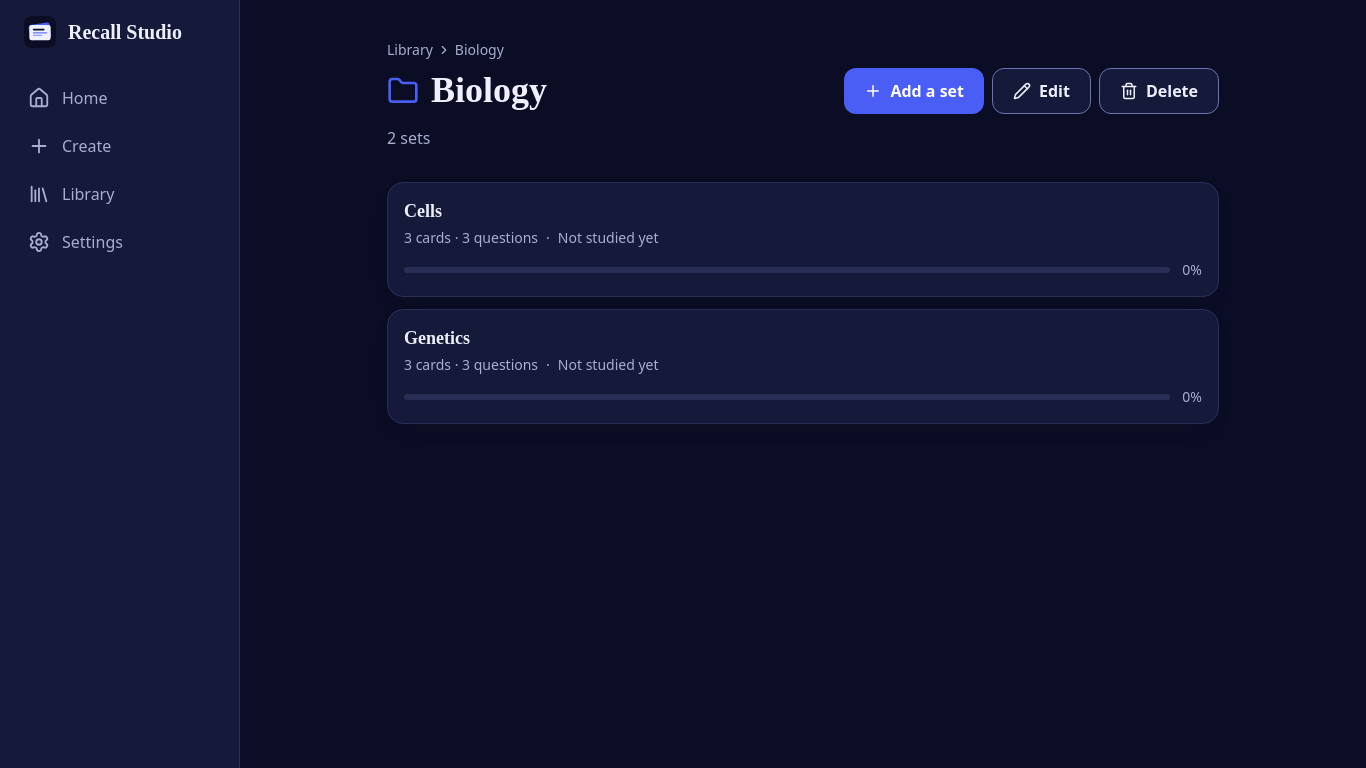
Test case: Folders › deleting a folder keeps its sets by default (moved to Unsorted)
Click the button "Delete". click: (1159, 91)
box: [1099, 68, 1219, 114]
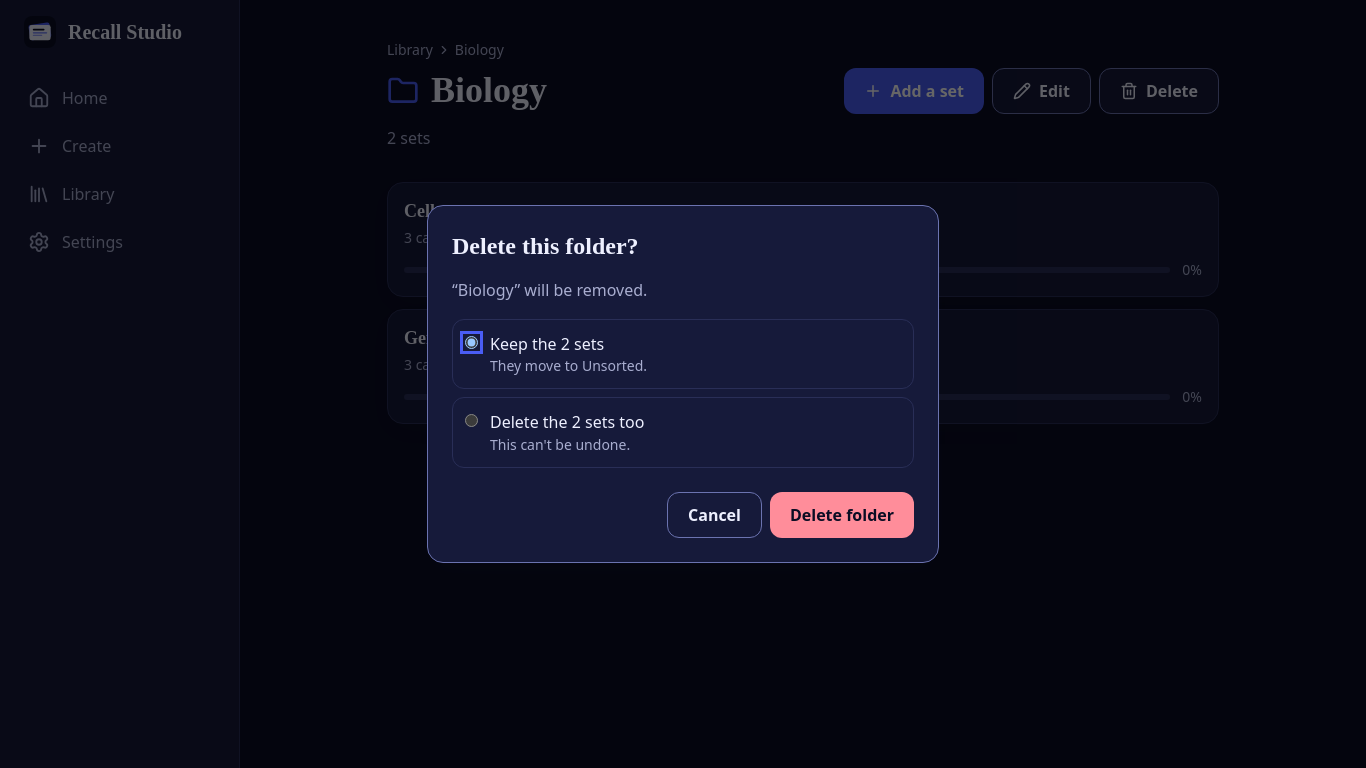
Check: the radio button labelled "Keep the 2 sets They move to Unsorted." is checked, box [465, 336, 478, 349]
Click the button "Delete folder". click: (842, 515)
box: [770, 492, 914, 538]
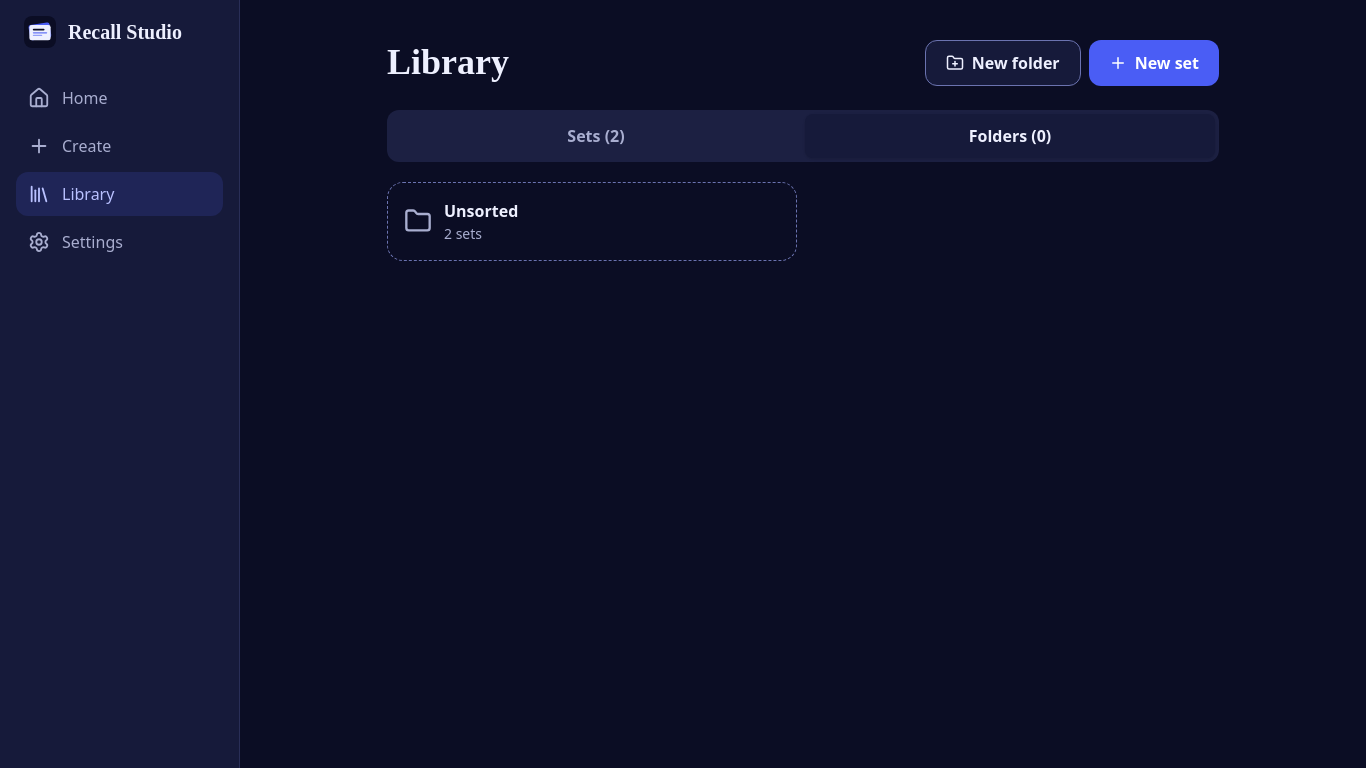
Check: the heading "Library" is shown, box [387, 40, 509, 85]
